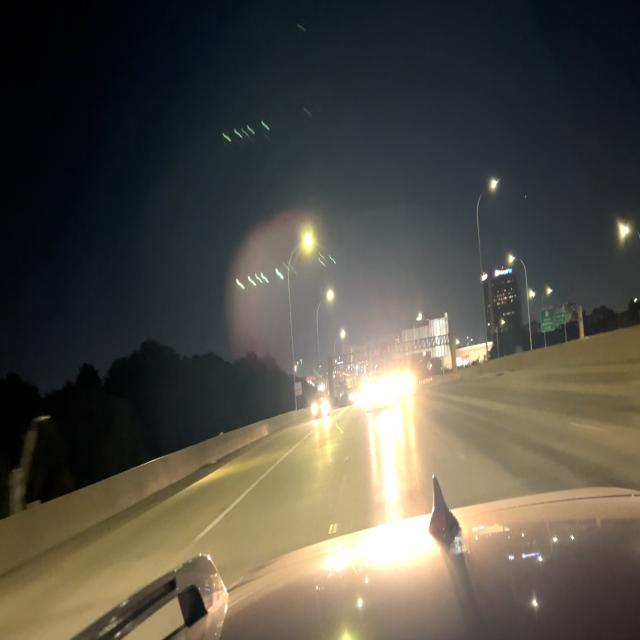back-of-sign: (404, 314, 449, 359)
